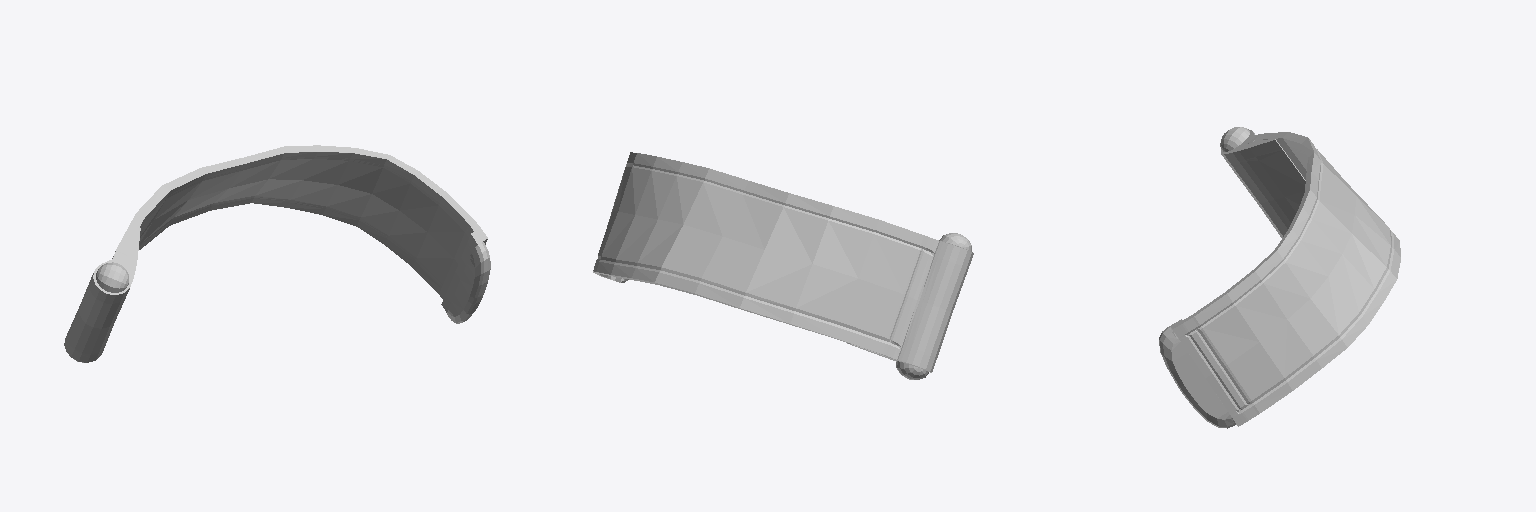
File: max-tab-right-top.obj
The picture shows the model from 3 angles: view 1: azimuth 30°, elevation 25°; view 2: azimuth 150°, elevation 25°; view 3: azimuth 270°, elevation 25°; orthographic projection.
Parts seen in each view (by area): view 1: group16 polySurface31 polySurface1, group16 polySurface29 polySurface1, group16 polySurface30 polySurface1; view 2: group16 polySurface31 polySurface1, group16 polySurface30 polySurface1; view 3: group16 polySurface31 polySurface1, group16 polySurface29 polySurface1.
Boxes of the visible parts, x1=… form: group16 polySurface31 polySurface1: x1=64, y1=145, x2=487, y2=362; group16 polySurface29 polySurface1: x1=441, y1=232, x2=490, y2=323; group16 polySurface30 polySurface1: x1=74, y1=262, x2=128, y2=362; group16 polySurface31 polySurface1: x1=593, y1=152, x2=973, y2=372; group16 polySurface30 polySurface1: x1=896, y1=233, x2=971, y2=379; group16 polySurface31 polySurface1: x1=1171, y1=129, x2=1400, y2=426; group16 polySurface29 polySurface1: x1=1159, y1=319, x2=1235, y2=428.
Size of the model in its own units: 1.66 by 0.7663 by 0.9575.